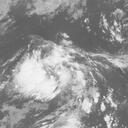cyclone: (18, 41, 87, 102)
